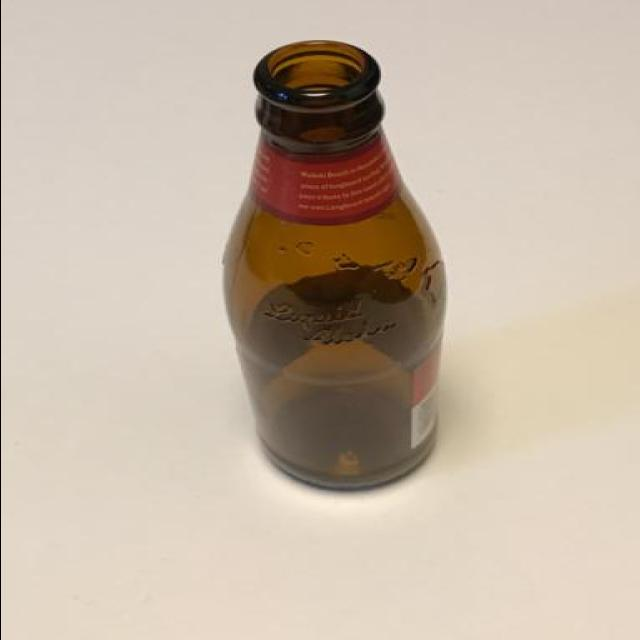litter: (207, 36, 443, 498)
